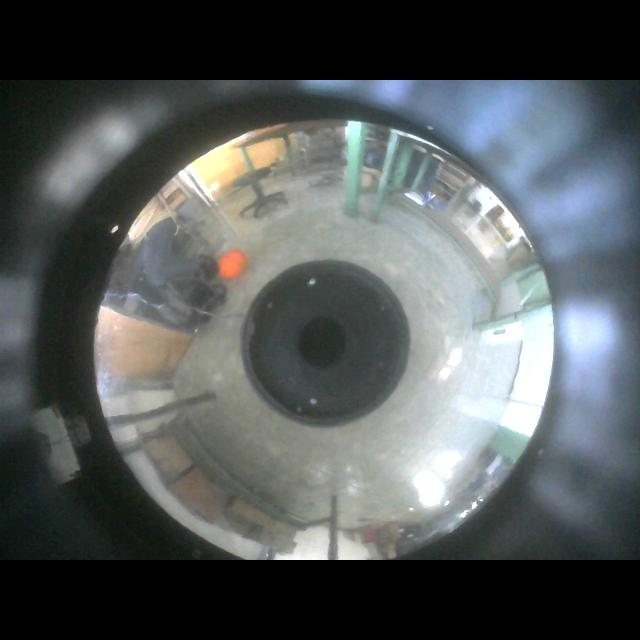bola: (217, 251, 248, 278)
